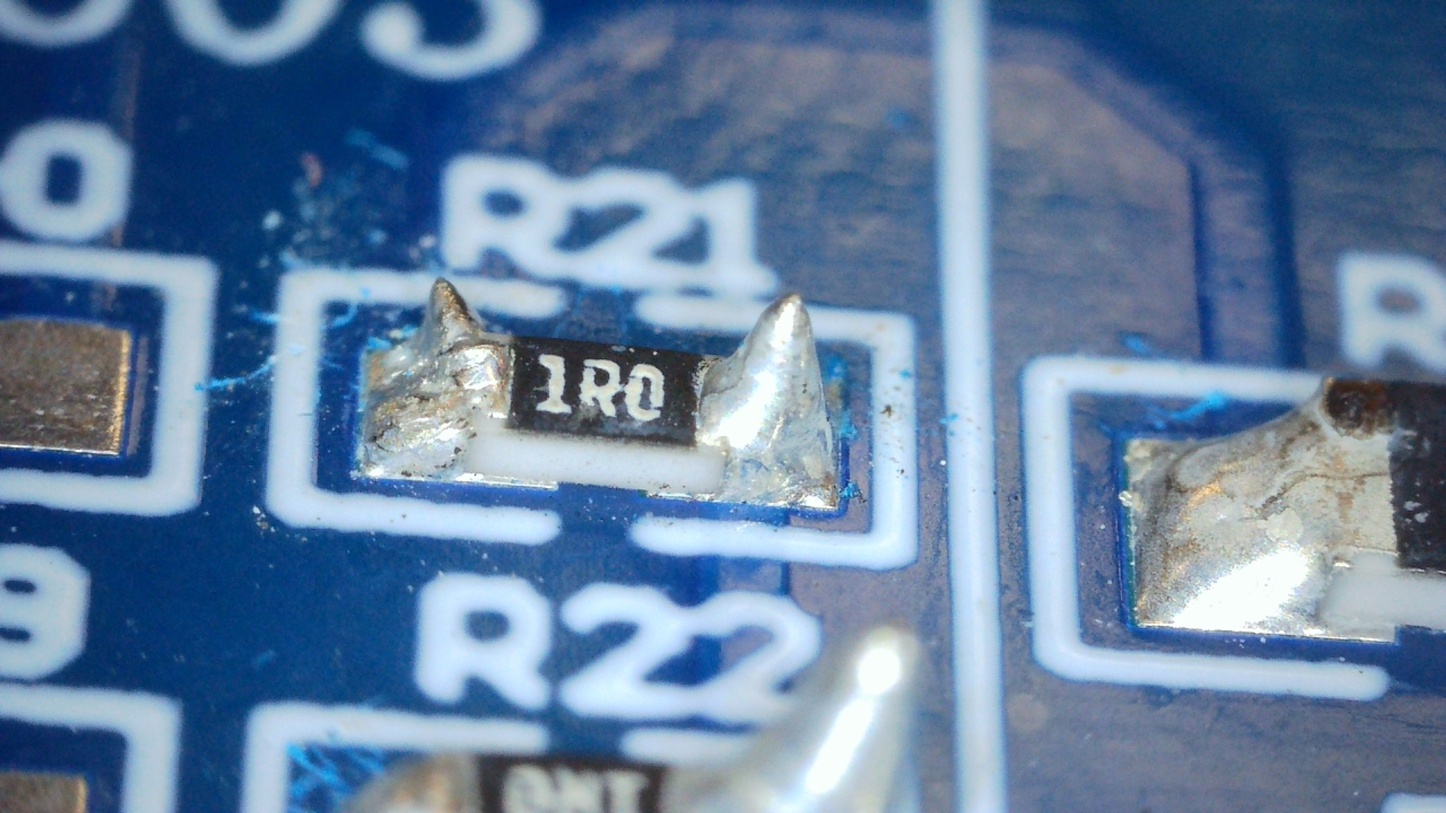NG: (701, 291, 834, 500), (370, 278, 507, 473)
